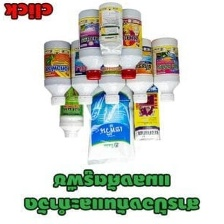insecticide: (81, 79, 138, 167), (124, 74, 164, 141), (76, 7, 110, 81), (111, 7, 143, 81), (68, 38, 101, 106), (122, 36, 155, 104), (149, 36, 182, 104), (41, 39, 73, 107), (96, 37, 127, 105), (97, 0, 125, 68), (57, 81, 84, 140)
